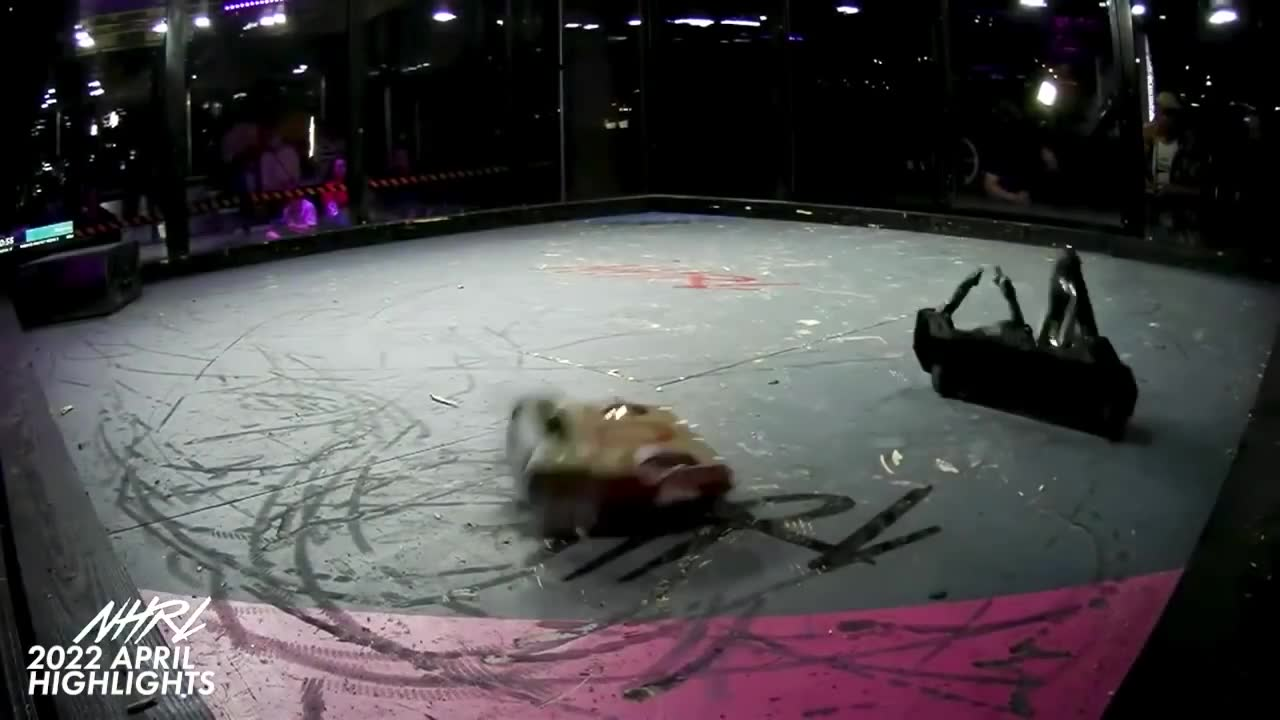combatbot: (913, 244, 1138, 435), (509, 392, 734, 539)
housebot: (6, 239, 143, 326)
